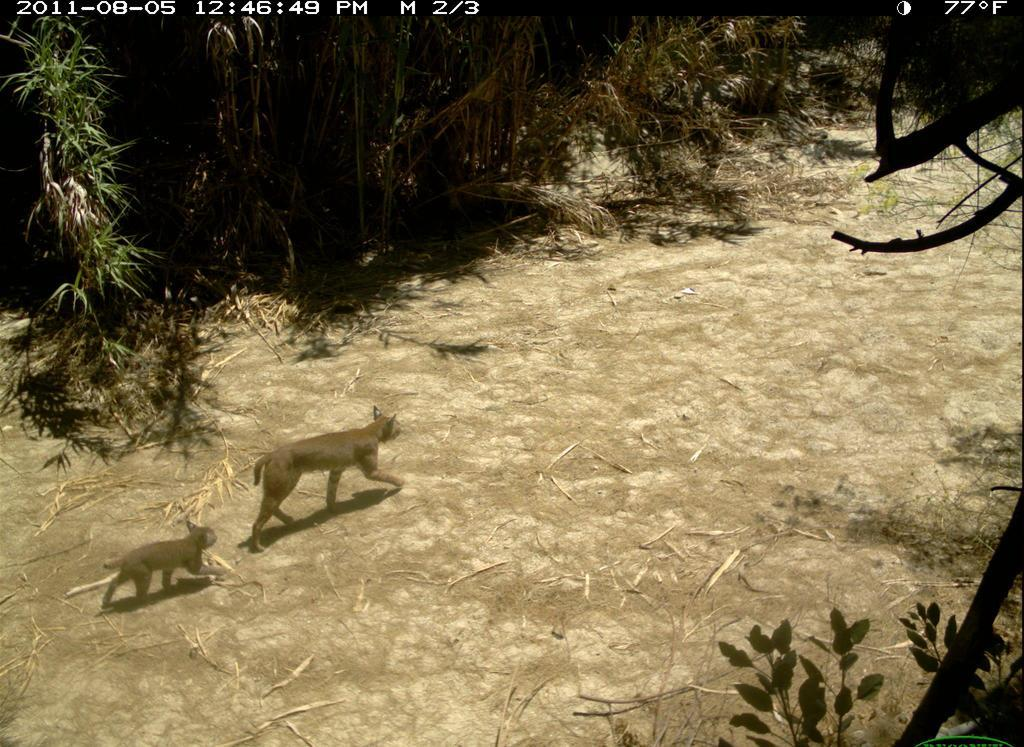bobcat: (239, 404, 418, 559), (97, 521, 237, 620)
